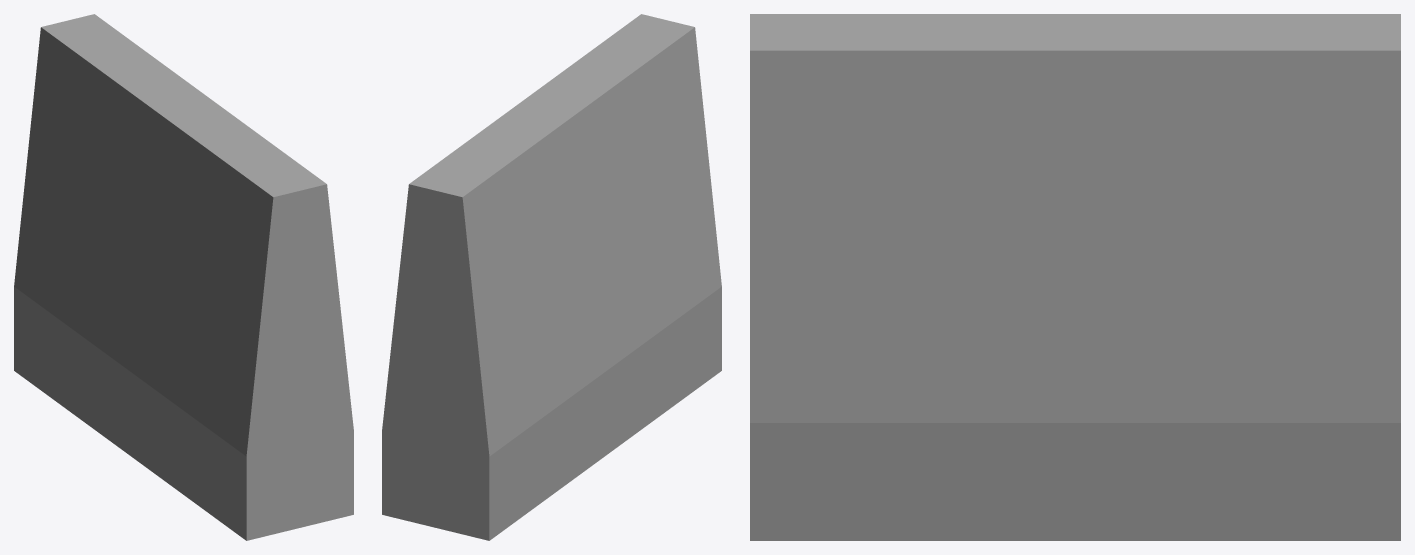
The model's file is ETC0510011.fbx.
3 views of the same model, side by side, from view 1: azimuth 30°, elevation 25°; view 2: azimuth 150°, elevation 25°; view 3: azimuth 270°, elevation 25° (orthographic). The views are drawn at different scales.
Visible parts, largest first — view 1: smETC0510011; view 2: smETC0510011; view 3: smETC0510011.
Part boxes in pixels (x1,y1,x2,y2): smETC0510011: (14,14,353,540); smETC0510011: (382,14,721,540); smETC0510011: (750,14,1400,540).
Size of the model in its own units: 48 by 144 by 180.
1 material, 1 textured.
